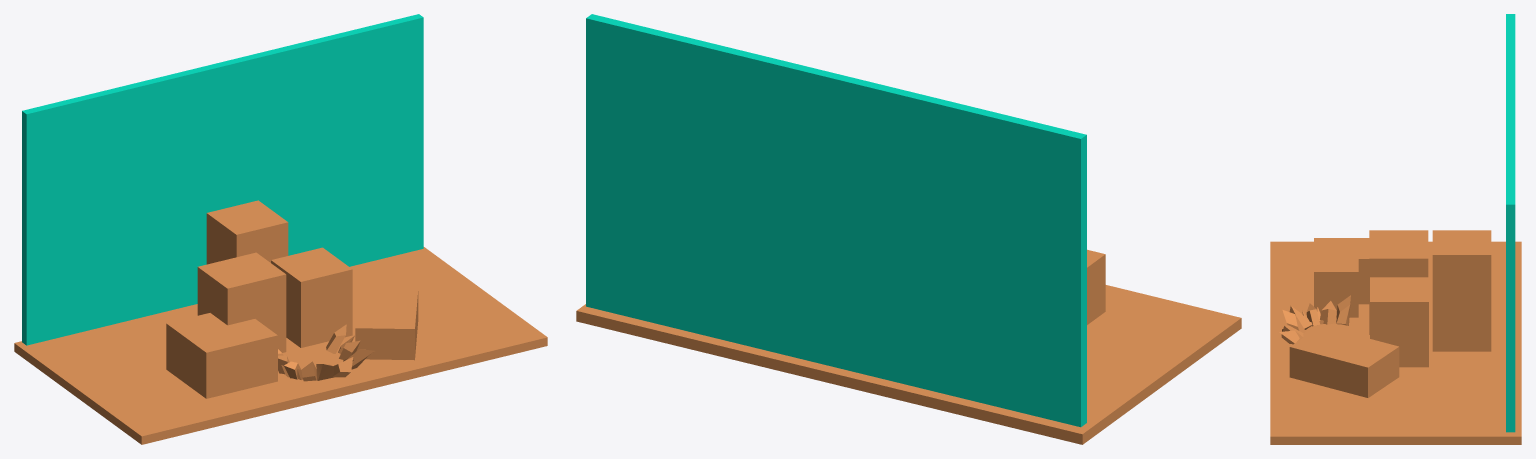
The model's file is shelf_02 1.fbx.
The picture shows the model from 3 angles, left to right: view 1: azimuth 30°, elevation 25°; view 2: azimuth 150°, elevation 25°; view 3: azimuth 270°, elevation 25°; orthographic projection. The views are drawn at different scales.
Visible parts, largest first — view 1: pCube42, pCube17, pCube9, pCube21, pCube20, pCube24, pCube19, pCylinder8; view 2: pCube42, pCube17, pCube9; view 3: pCube17, pCube19, pCube24, pCube21, pCube42, pCube9, pCube20, pCube31, pCylinder8, pCube32.
Part boxes in pixels (<box>): pCube42: <box>22,14,423,345</box>; pCube17: <box>14,247,547,444</box>; pCube9: <box>166,313,277,398</box>; pCube21: <box>271,247,352,347</box>; pCube20: <box>197,252,286,352</box>; pCube24: <box>355,288,418,360</box>; pCube19: <box>206,200,288,264</box>; pCylinder8: <box>287,348,343,369</box>; pCube42: <box>586,14,1086,427</box>; pCube17: <box>576,285,1241,444</box>; pCube9: <box>1087,249,1105,324</box>; pCube17: <box>1270,241,1521,444</box>; pCube19: <box>1432,230,1491,351</box>; pCube24: <box>1289,326,1399,397</box>; pCube21: <box>1370,277,1428,367</box>; pCube42: <box>1506,14,1515,432</box>; pCube9: <box>1314,238,1369,317</box>; pCube20: <box>1369,230,1428,334</box>; pCube31: <box>1336,295,1350,325</box>; pCylinder8: <box>1303,323,1360,337</box>; pCube32: <box>1320,301,1336,324</box>.
Size of the model in its own units: 61.8 by 35.19 by 33.64.
